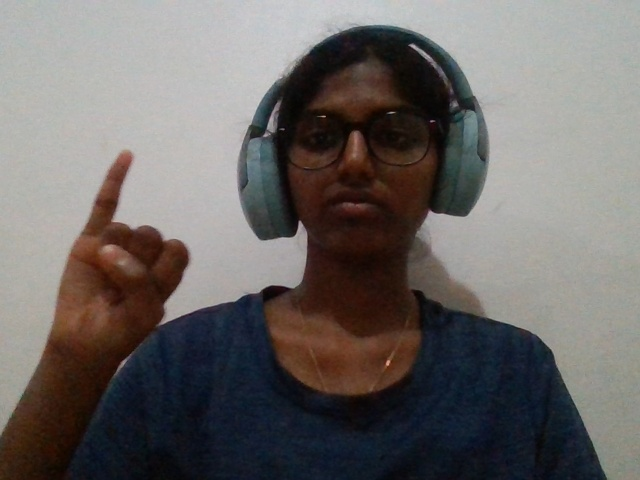I: (21, 137, 200, 413)
